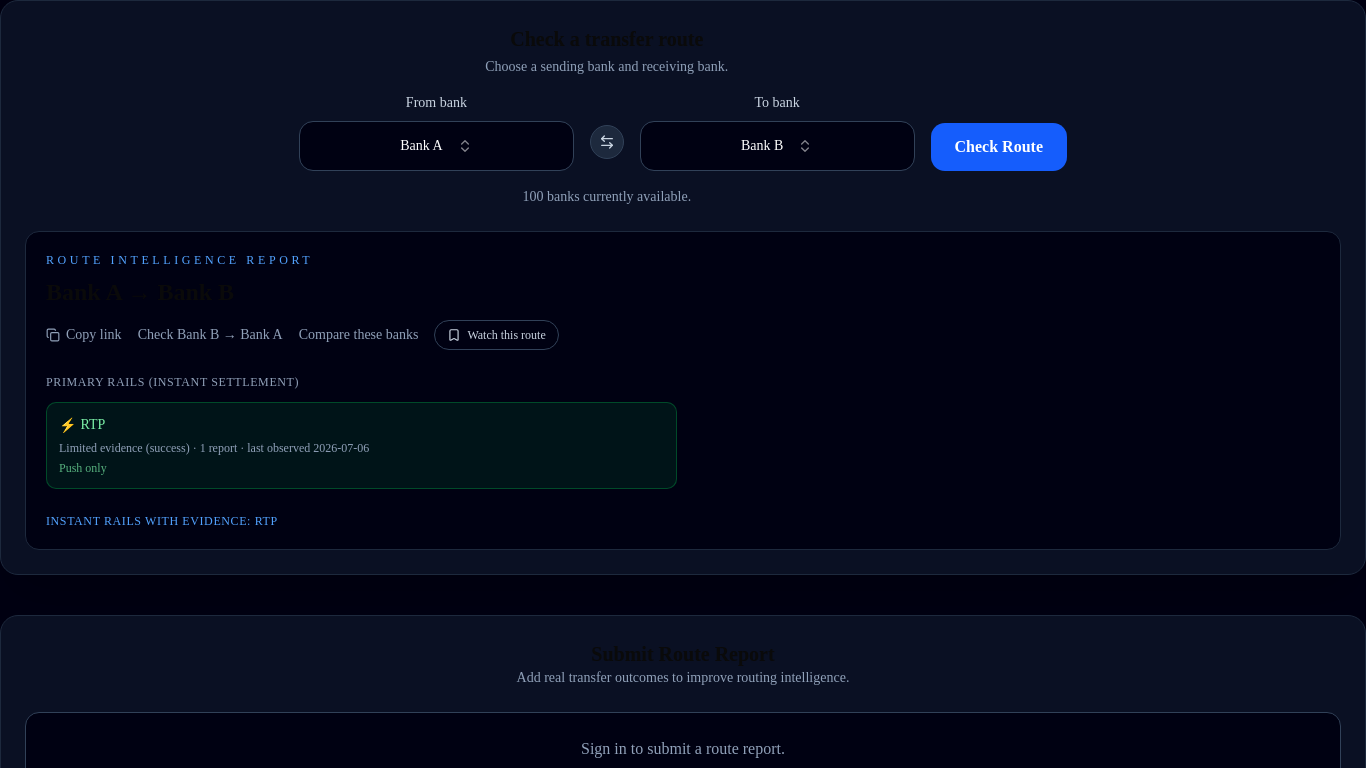
Test: HomeRouteChecker — clearing stale evidence on selection change › clears the previous route's evidence as soon as a bank selection changes, before Check Route is clicked again
The width and height of the screenshot is (1366, 768).
Expected: the text "Limited evidence" is shown, [59, 441, 143, 455]
Click the dropdown named "From bank" at (436, 146), box [299, 121, 574, 171]
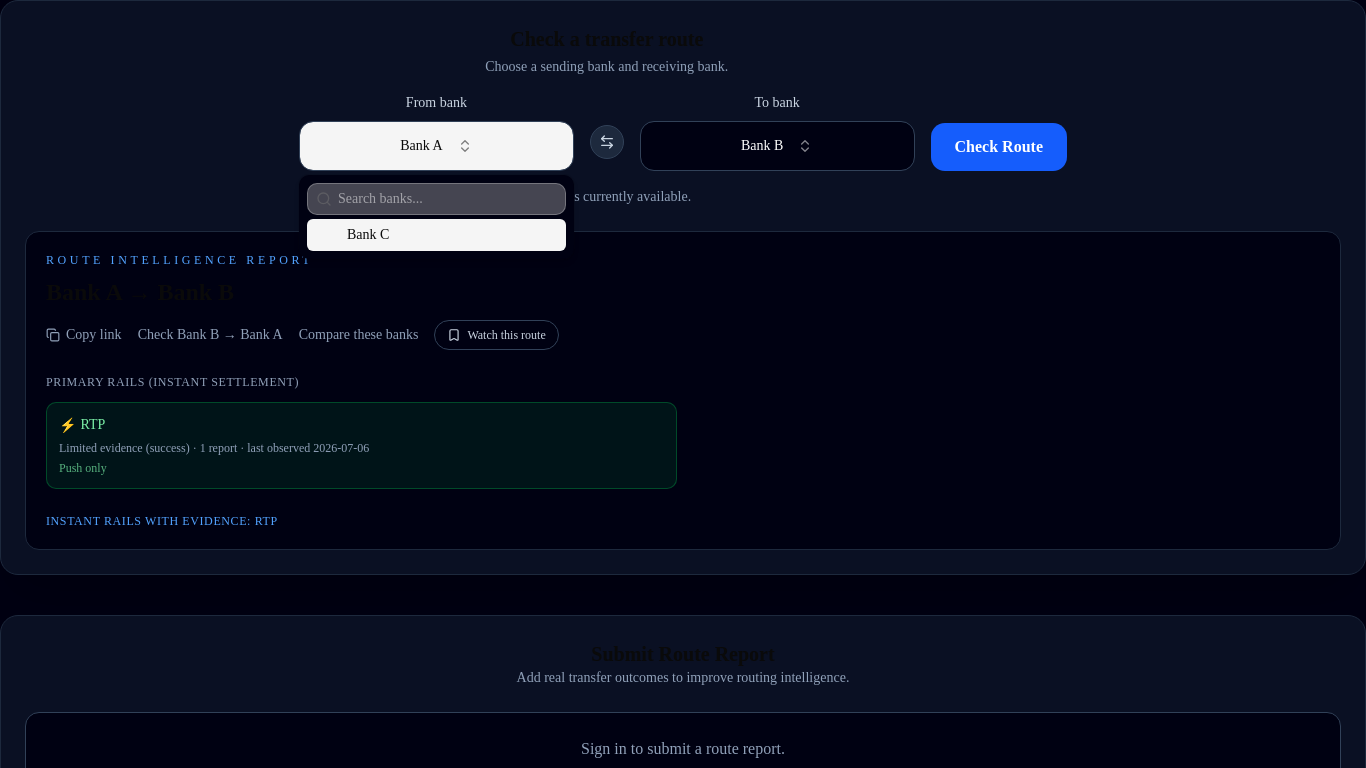
Click the option "Bank C" at (436, 235), box [307, 219, 566, 251]
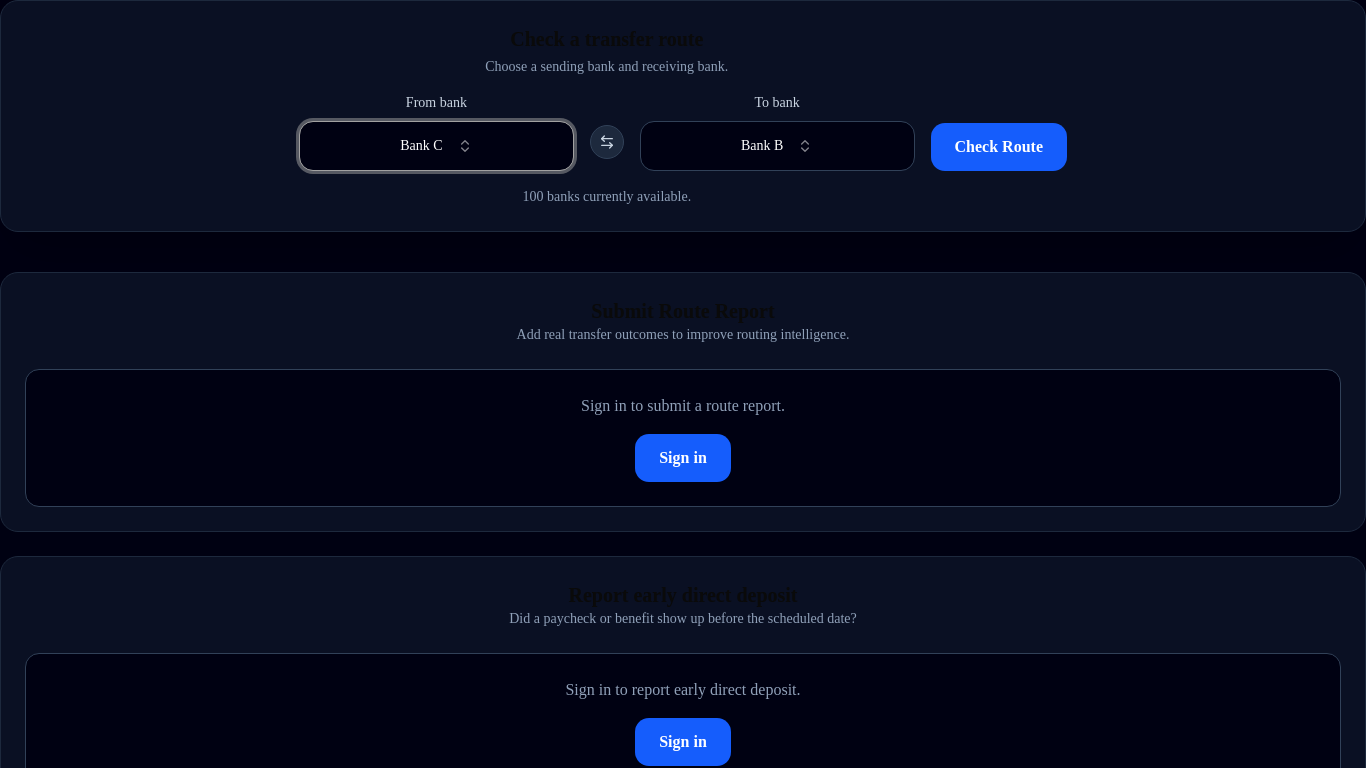
Now the text "Limited evidence" is gone
